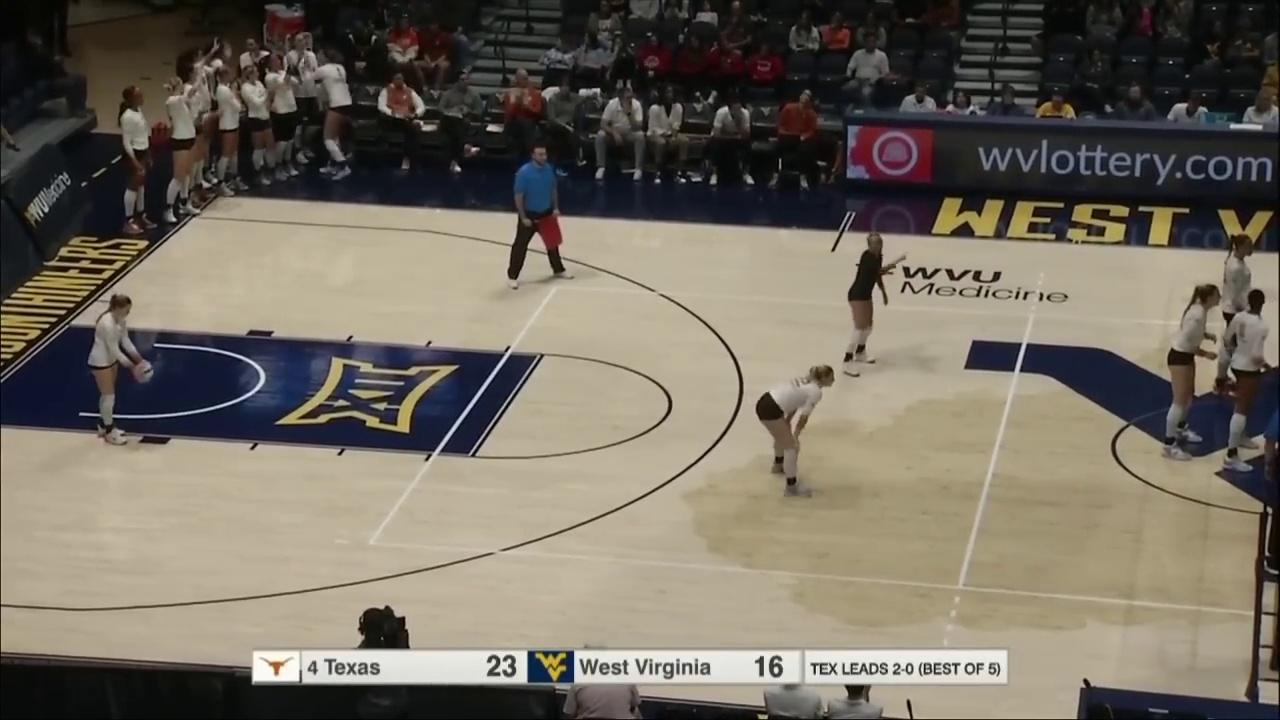player: (757, 364, 839, 499), (1162, 281, 1217, 457), (89, 291, 145, 442), (1224, 288, 1267, 472), (1215, 232, 1255, 401), (845, 232, 889, 376)
refree: (507, 146, 573, 285)
